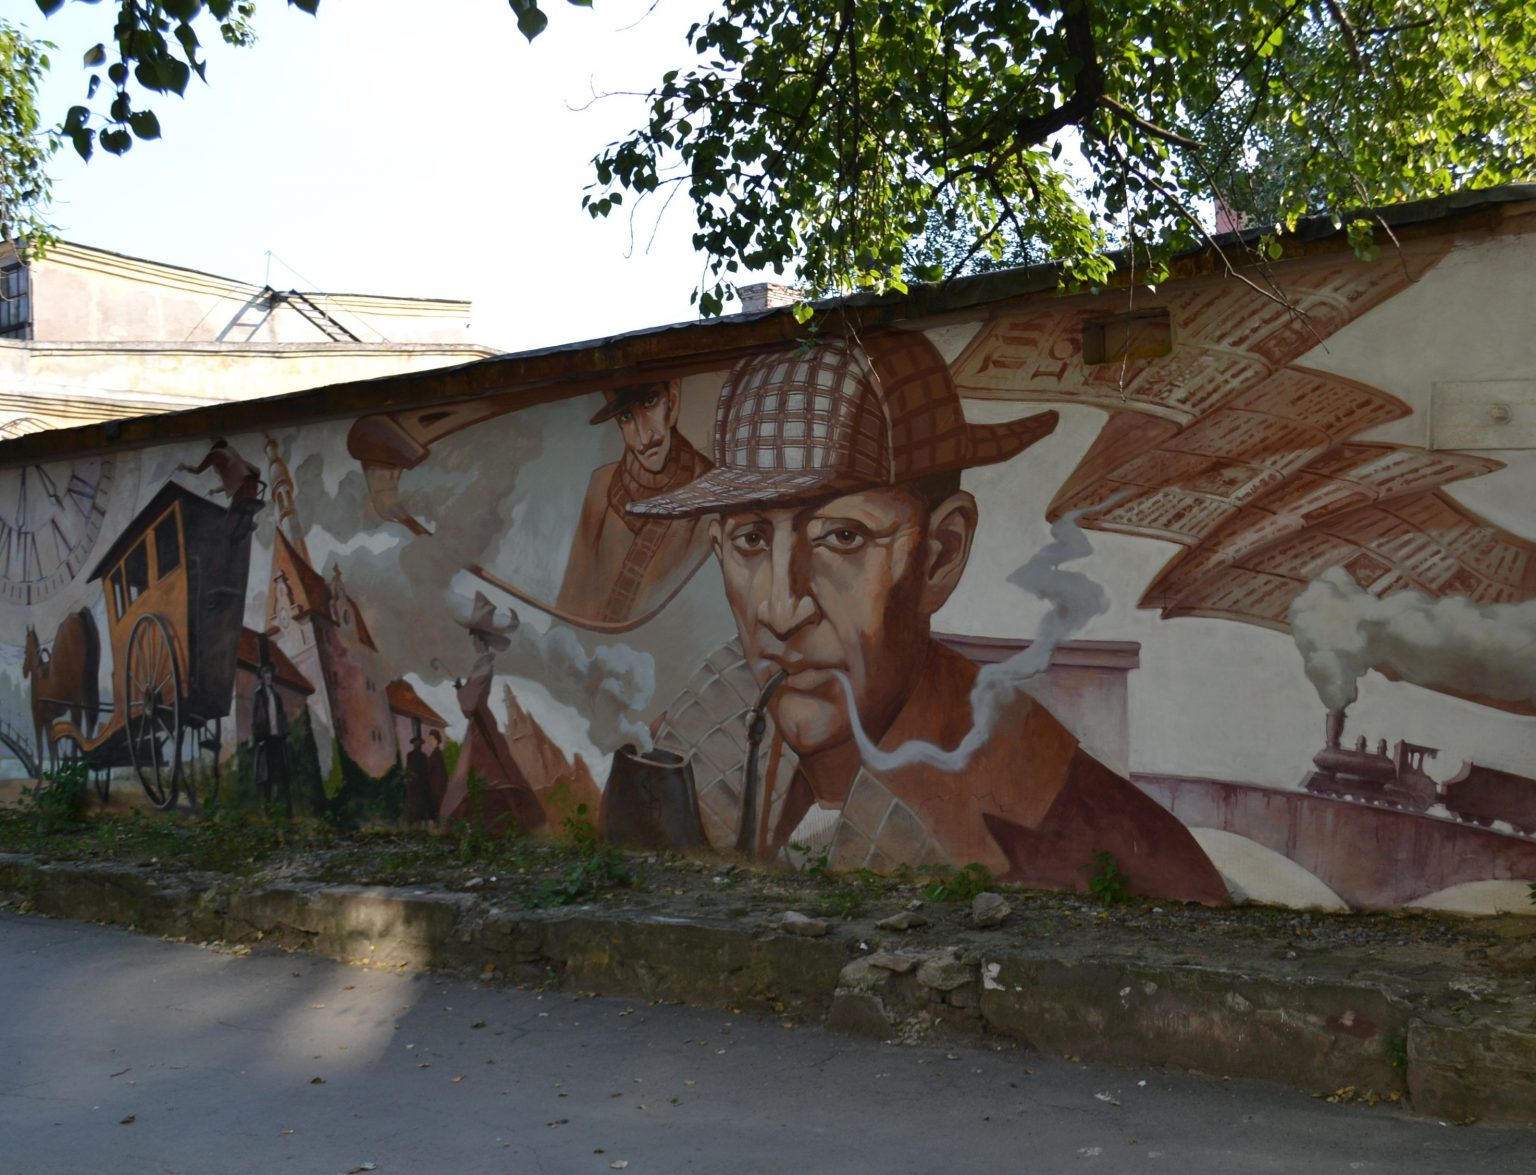graphite: (630, 360, 1233, 910), (12, 421, 564, 852), (1241, 299, 1536, 957)
